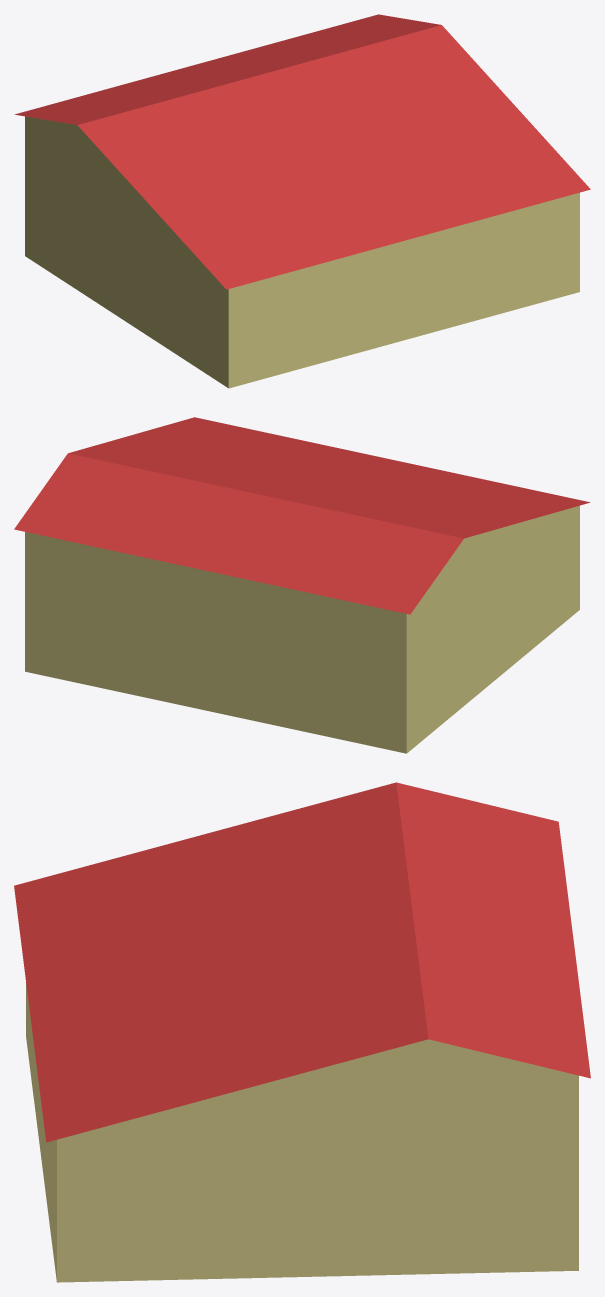
3 views of the same model, one above another, from view 1: azimuth 30°, elevation 25°; view 2: azimuth 150°, elevation 25°; view 3: azimuth 270°, elevation 25° (orthographic). The views are drawn at different scales.
Size of the model in its own units: 28.31 by 25.65 by 11.76.
